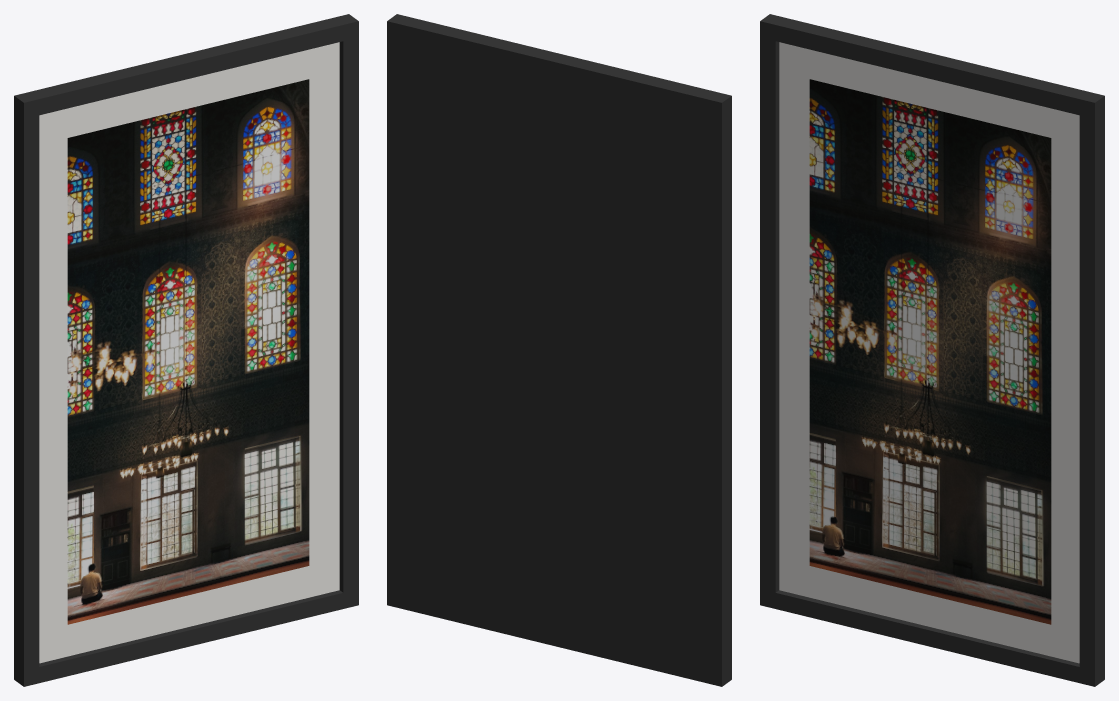
The model's file is bonen-60.gltf.
3 views of the same model, side by side, from view 1: azimuth 30°, elevation 25°; view 2: azimuth 150°, elevation 25°; view 3: azimuth 330°, elevation 25° (orthographic).
Visible parts, largest first — view 1: tavla; view 2: tavla; view 3: tavla.
Part boxes in pixels (x1,y1,x2,y2): tavla: [14, 14, 358, 686]; tavla: [387, 14, 731, 686]; tavla: [760, 14, 1104, 686].
Bounding box in the file's own units: 0.432 × 0.72 × 0.022.
Materials: 3 (1 with a texture image).
